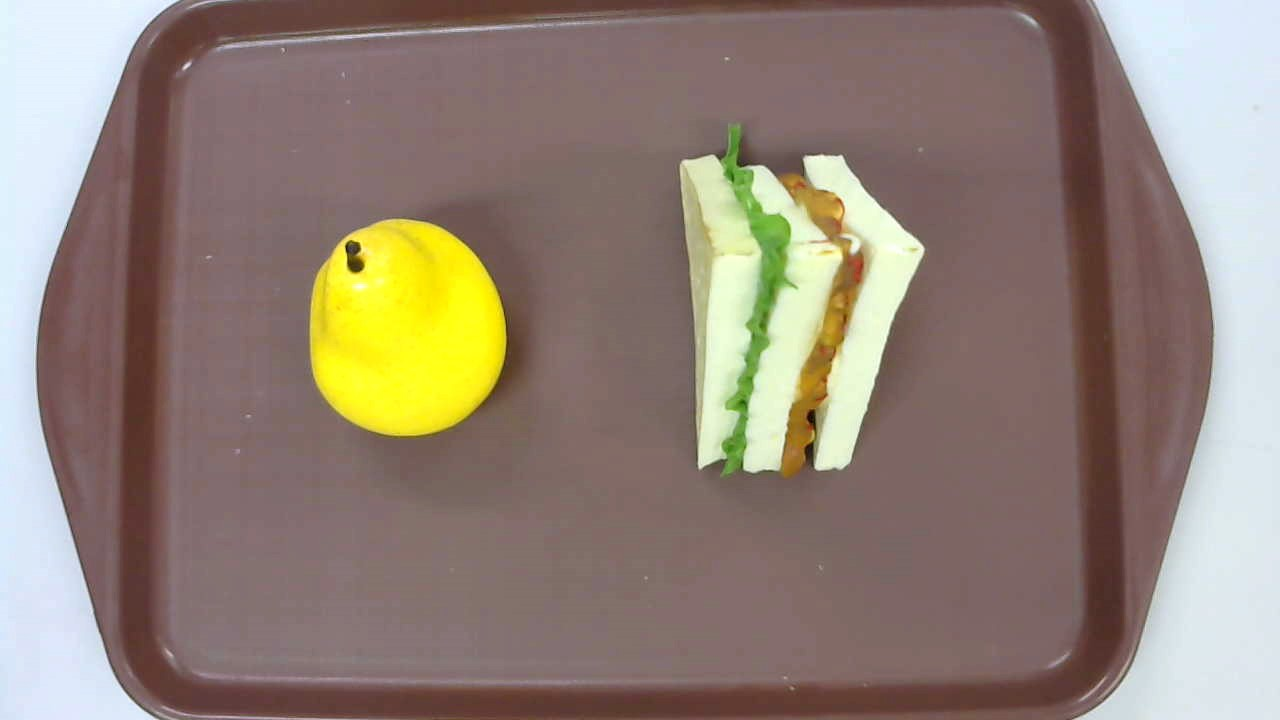sandwich: (678, 120, 925, 478)
yellow pear: (308, 218, 508, 438)
